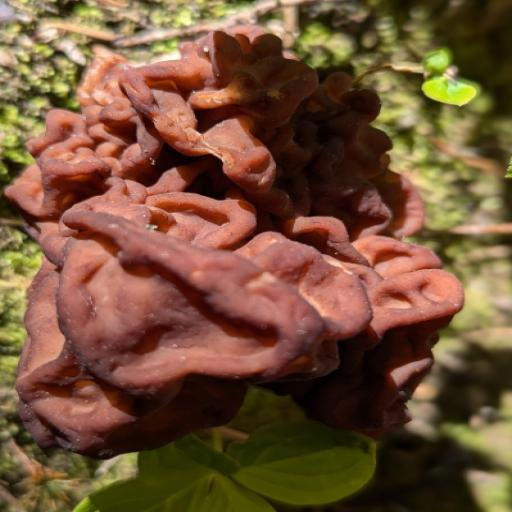False Morel: (0, 17, 449, 455)
